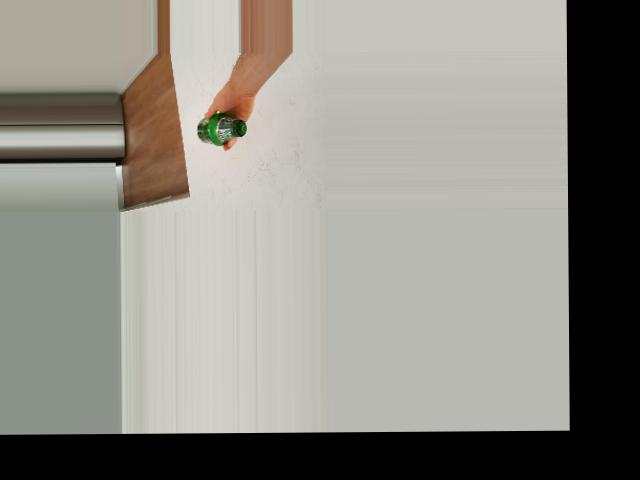beer: (197, 112, 246, 145)
